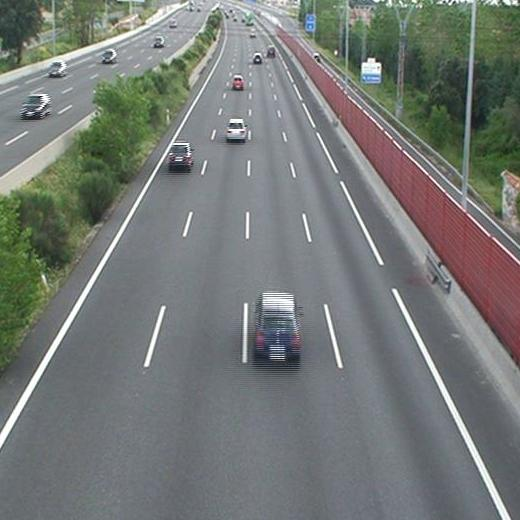car: (254, 292, 300, 358), (170, 143, 192, 165), (227, 119, 247, 139), (232, 75, 243, 90), (252, 53, 262, 63), (266, 45, 275, 56)
